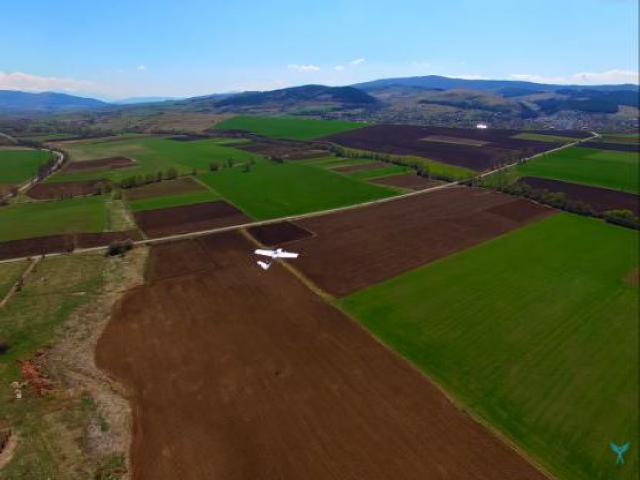uav: (251, 241, 304, 280)
